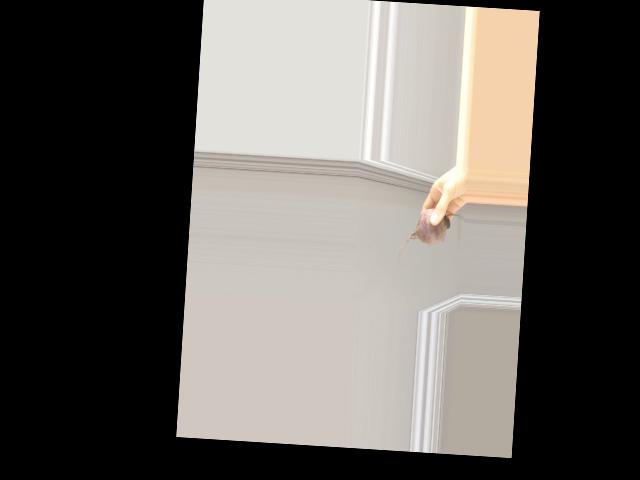beet: (397, 207, 467, 266)
